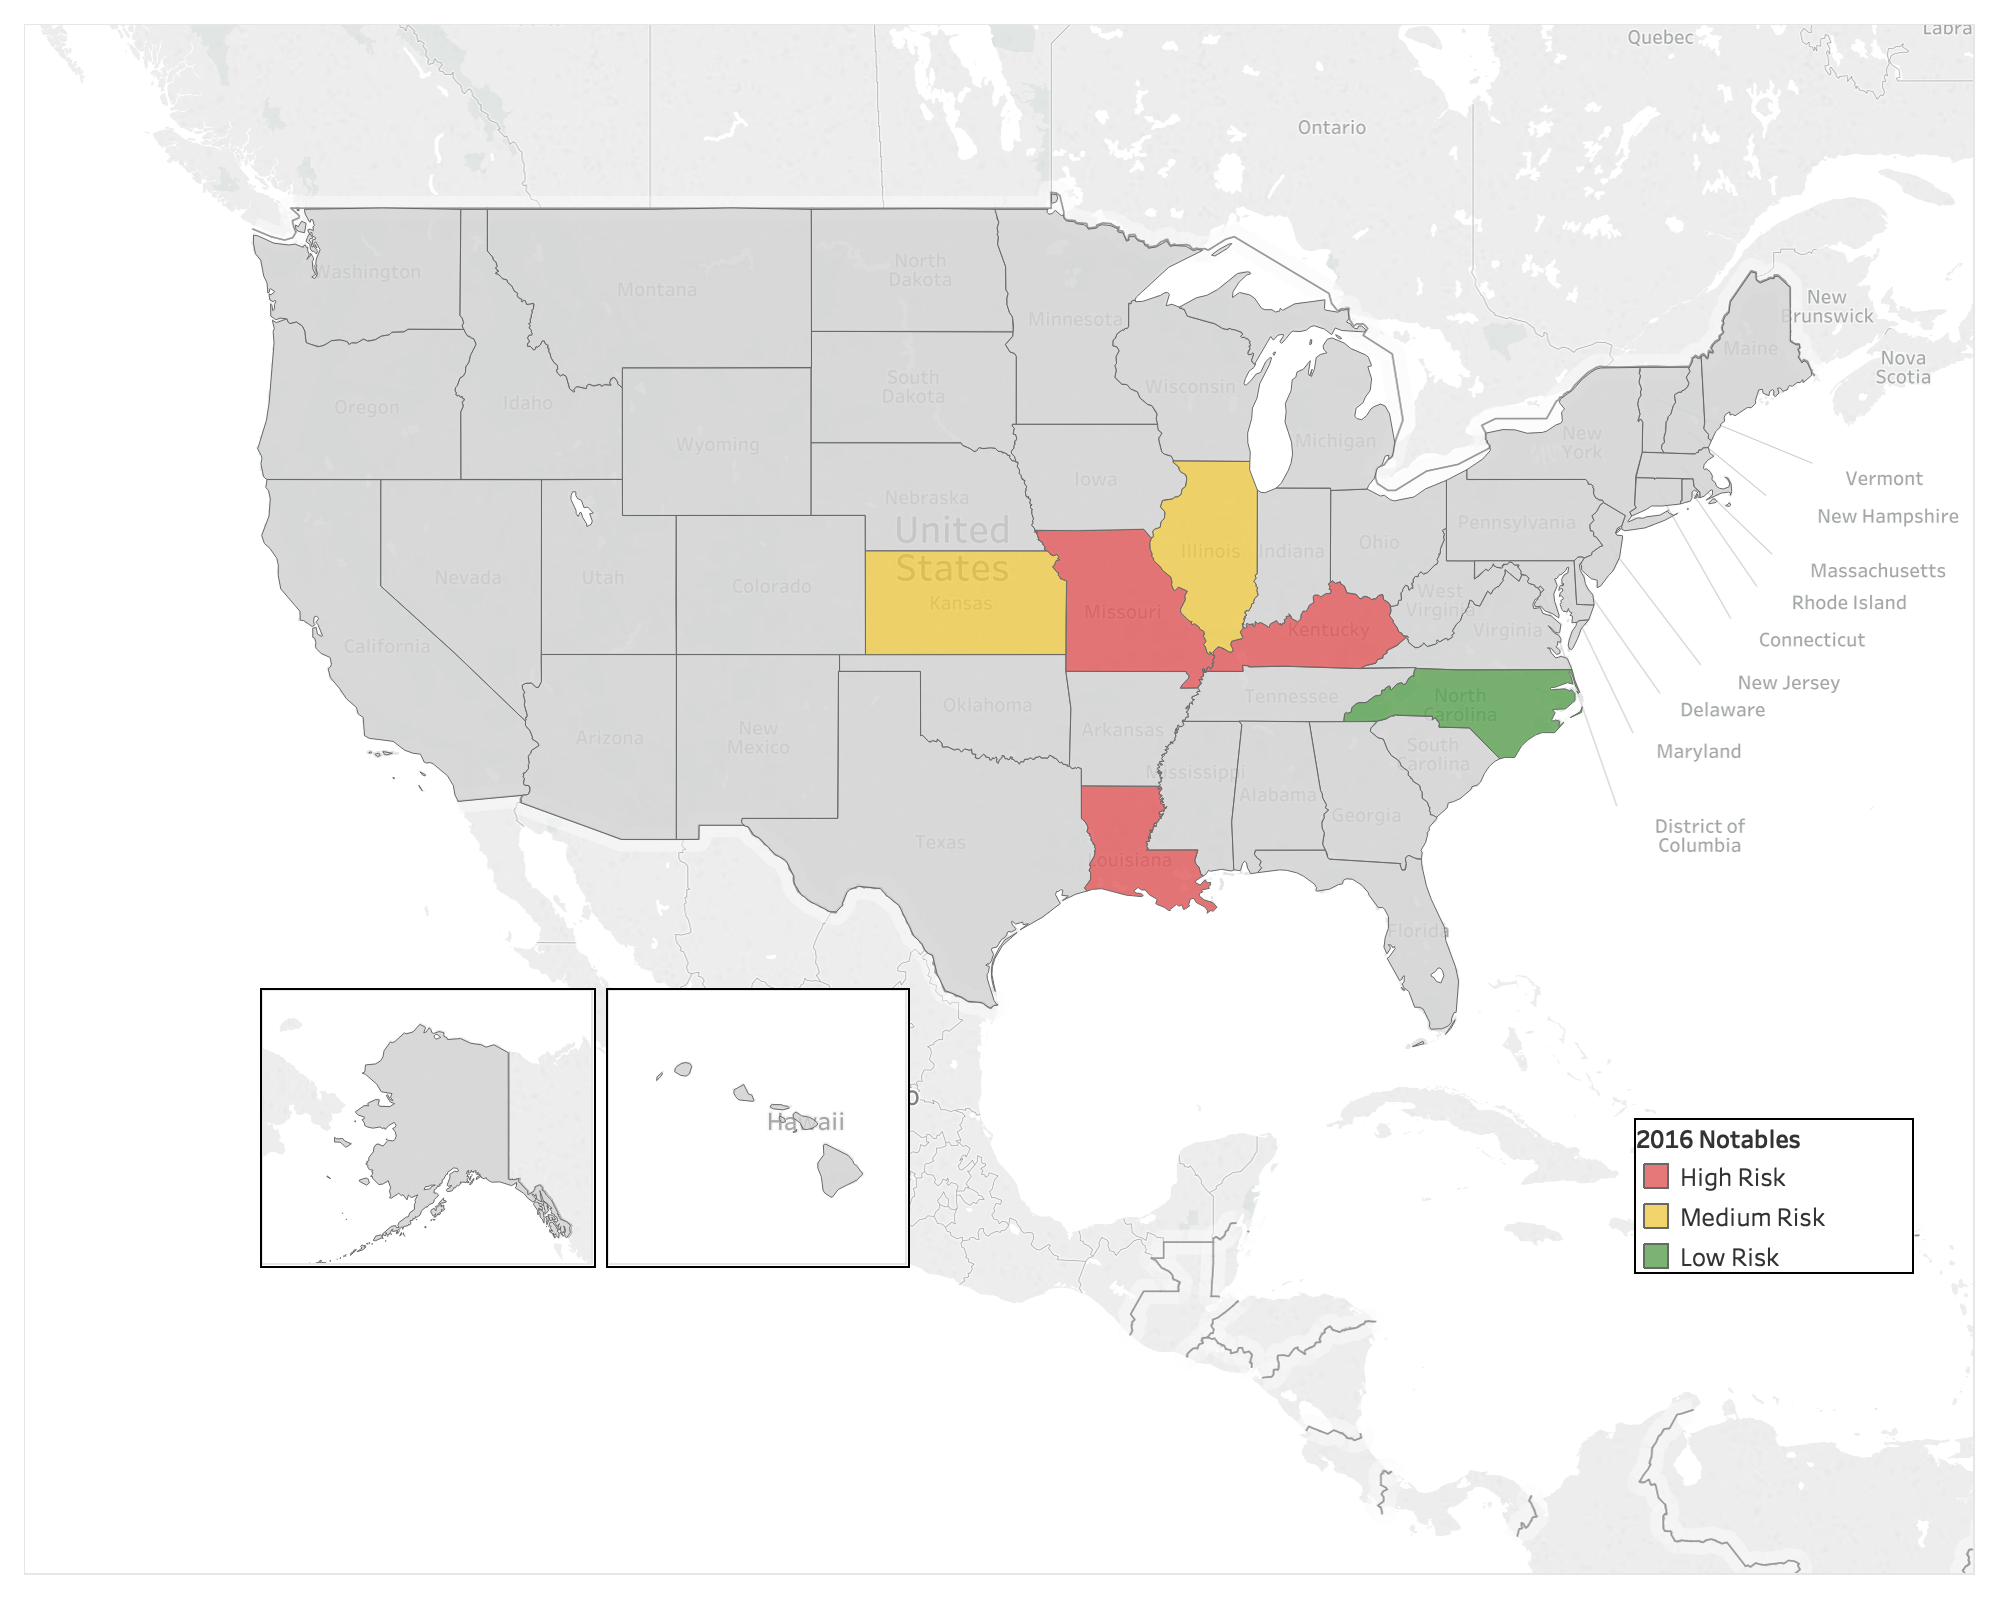

The dashboard page shown, as its layout file describes it:
{"tool":"tableau","page":{"name":"Combined Dashboard","canvas":[1000,800],"ordinal":0},"visuals":[{"type":"worksheet","title":"Continental US","mark":"Multipolygon","box":[8,8,984,784]},{"type":"worksheet","title":"Alaska","mark":"Multipolygon","box":[130,494,168,140]},{"type":"worksheet","title":"Hawaii","mark":"Multipolygon","box":[303,494,152,140]},{"type":"legend","title":"Continental US","param":"[federated.0m2l6ym0lxfjpv17yf2tp1avjzvb].[none:Calculation_3261732089231159298:n","box":[817,559,140,78]}]}

Visuals, with their boxes in screenshot pixels (x1, y1, x2, y2), scaled from the page's 1000x800 canvas onto the 2000x1600 screenshot:
"Continental US" worksheet (Multipolygon marks): box(16, 16, 1984, 1584)
"Alaska" worksheet (Multipolygon marks): box(260, 988, 596, 1268)
"Hawaii" worksheet (Multipolygon marks): box(606, 988, 910, 1268)
"Continental US" legend: box(1634, 1118, 1914, 1274)
